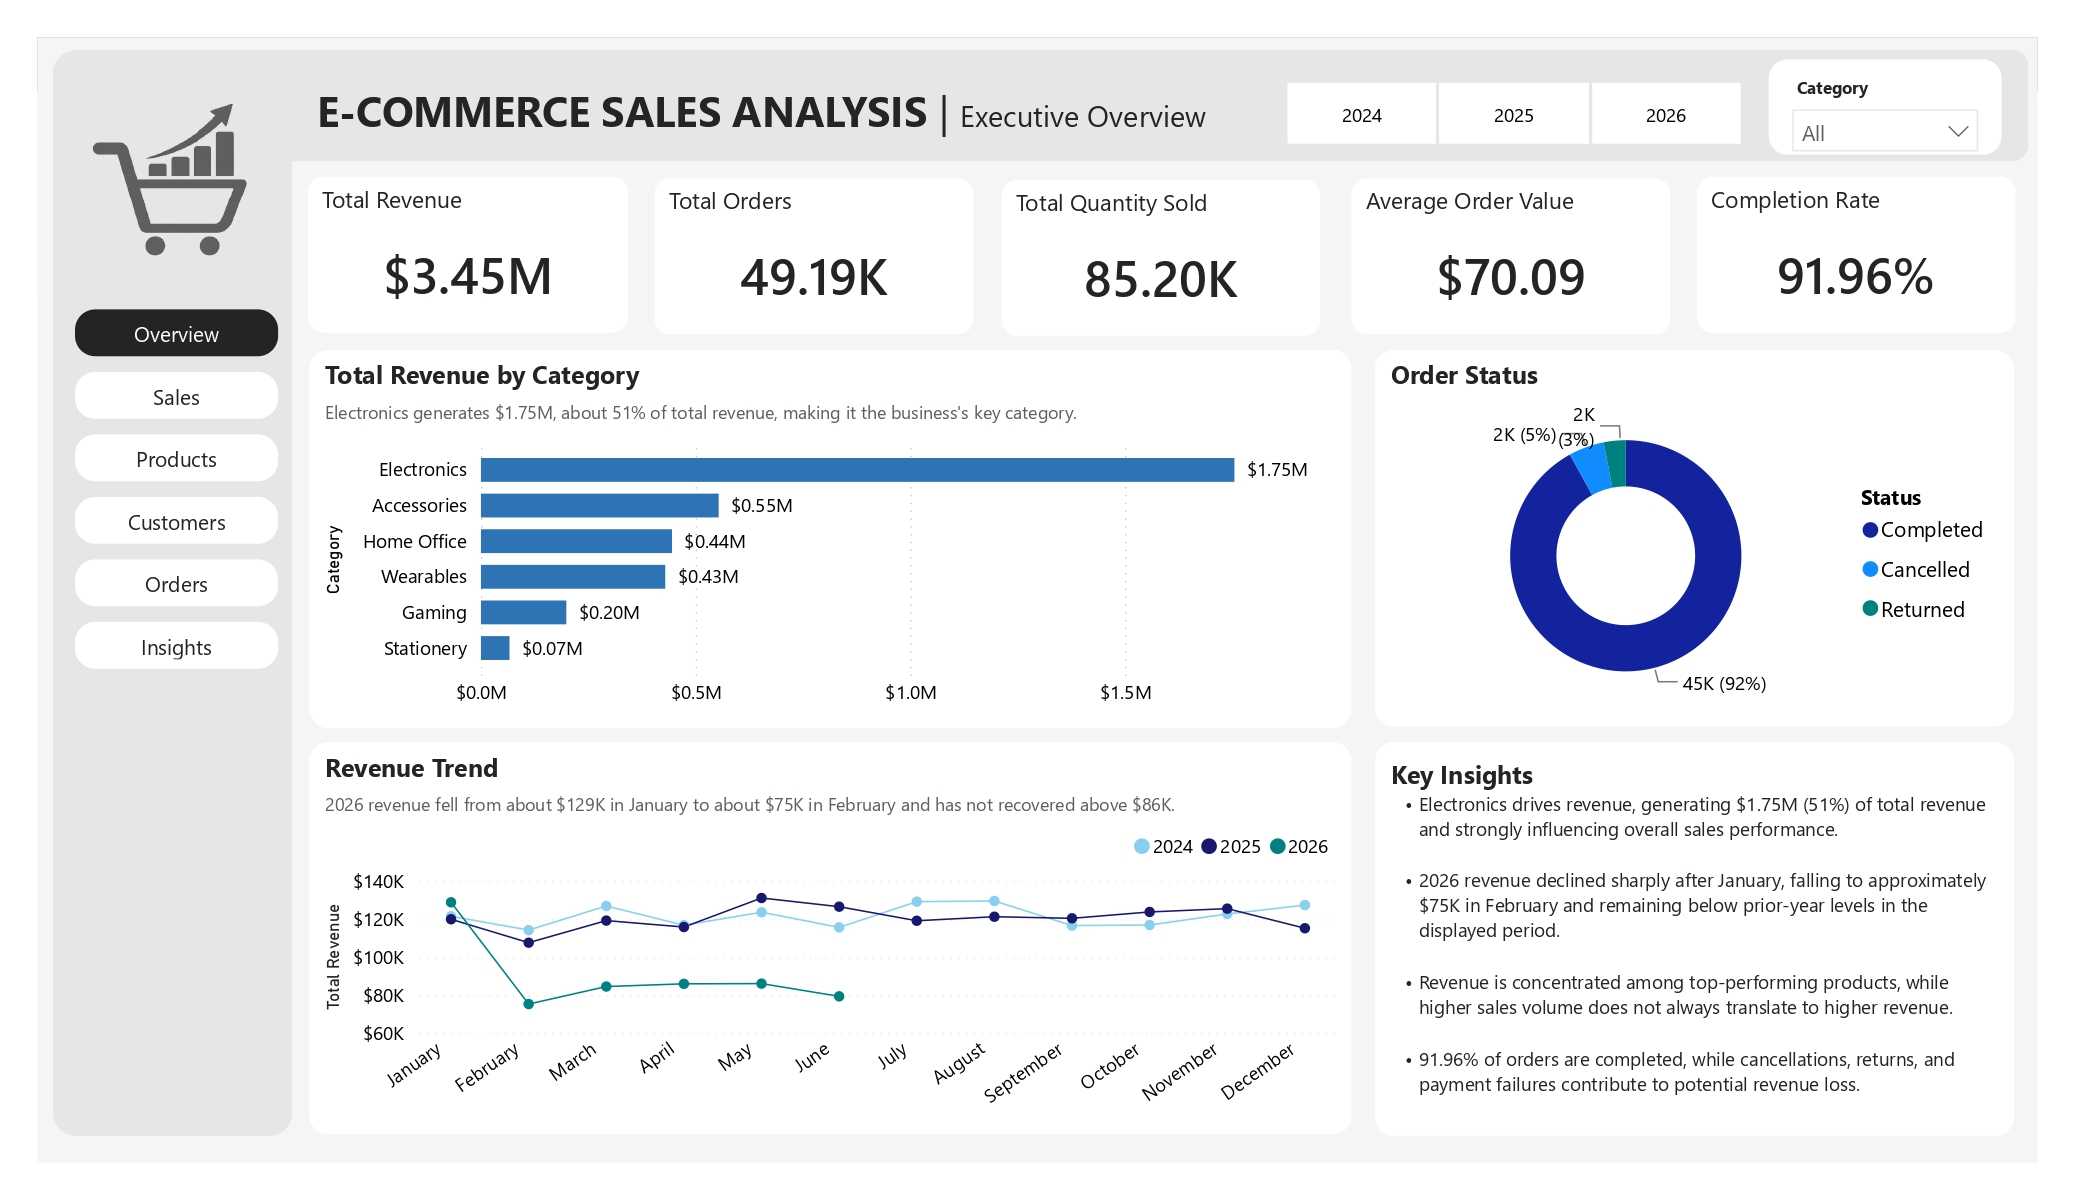

Layout of this report page (visuals, bound fields, positions):
{"tool":"powerbi","page":{"name":"Overview","canvas":[1280,720],"ordinal":0},"visuals":[{"type":"textbox","box":[138.9,8.3,1134.7,70.8],"z":0},{"type":"cardVisual","title":"Total Revenue","fields":{"Data":["DAX Measure.Total Revenue"]},"box":[173.4,89.3,204.5,100.2],"z":1000},{"type":"shape","box":[9.6,8.2,153.7,694.3],"z":2000},{"type":"pageNavigator","box":[23.6,173.6,130.6,235],"z":3000},{"type":"cardVisual","title":"Total Orders","fields":{"Data":["DAX Measure.Total Orders"]},"box":[394.9,90.4,204.2,100],"z":4000},{"type":"cardVisual","title":"Total Quantity Sold","fields":{"Data":["DAX Measure.Total Quantity"]},"box":[616.6,90.7,204.5,100.2],"z":5000},{"type":"cardVisual","title":"Average Order Value","fields":{"Data":["DAX Measure.Average Order Value"]},"box":[840.7,90.4,204.2,100],"z":6000},{"type":"cardVisual","title":"Completion Rate","fields":{"Data":["DAX Measure.Completion Rate"]},"box":[1061.6,89,204.2,100],"z":7000},{"type":"image","box":[12.5,22.2,151.4,133.3],"z":8000},{"type":"lineChart","title":"Revenue Trend ","fields":{"Category":["DimDate.Date.Variation.Date Hierarchy.Month"],"Y":["DAX Measure.Total Revenue"],"Series":["DimDate.Year"]},"box":[173.6,450.9,667,251.1],"z":9000},{"type":"clusteredBarChart","title":"Total Revenue by Category","fields":{"Category":["DimProducts.Category"],"Y":["DAX Measure.Total Revenue"]},"box":[173.7,200.3,667.2,241.3],"z":10000},{"type":"donutChart","title":"Order Status","fields":{"Category":["FactOrders.Status"],"Y":["DAX Measure.Total Orders"]},"box":[855.6,199.8,409.7,241.1],"z":11000},{"type":"slicer","fields":{"Values":["DimDate.Year"]},"box":[773.6,22.2,340.3,52.8],"z":12000},{"type":"slicer","fields":{"Values":["DimProducts.Category"]},"box":[1108.3,13.9,148.6,61.1],"z":13000},{"type":"textbox","box":[855.6,450.9,409.7,252.3],"z":14000}]}

Visuals, with their boxes on the page's 1280x720 design canvas (x1, y1, x2, y2). These are canvas units, not pixel positions in the 2075x1200 screenshot, which may show the page scaled, cropped or inside an application window:
textbox: bbox=(139, 8, 1274, 79)
"Total Revenue" cardVisual: bbox=(173, 89, 378, 190)
shape: bbox=(10, 8, 163, 702)
pageNavigator: bbox=(24, 174, 154, 409)
"Total Orders" cardVisual: bbox=(395, 90, 599, 190)
"Total Quantity Sold" cardVisual: bbox=(617, 91, 821, 191)
"Average Order Value" cardVisual: bbox=(841, 90, 1045, 190)
"Completion Rate" cardVisual: bbox=(1062, 89, 1266, 189)
image: bbox=(12, 22, 164, 156)
"Revenue Trend " lineChart: bbox=(174, 451, 841, 702)
"Total Revenue by Category" clusteredBarChart: bbox=(174, 200, 841, 442)
"Order Status" donutChart: bbox=(856, 200, 1265, 441)
slicer - DimDate.Year: bbox=(774, 22, 1114, 75)
slicer - DimProducts.Category: bbox=(1108, 14, 1257, 75)
textbox: bbox=(856, 451, 1265, 703)
